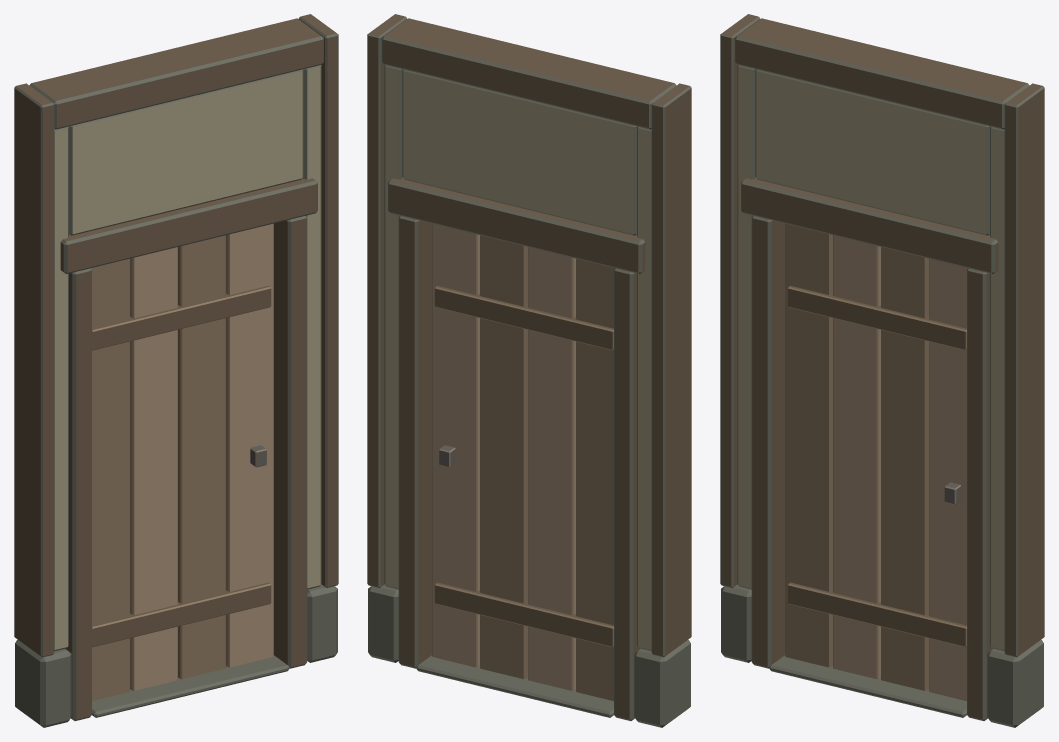
The model's file is door_wood.glb.
3 views of the same model, side by side, from view 1: azimuth 30°, elevation 25°; view 2: azimuth 150°, elevation 25°; view 3: azimuth 330°, elevation 25° (orthographic).
Visible parts, largest first — view 1: Door_Wood_Frame, Door_Wood_L; view 2: Door_Wood_Frame, Door_Wood_L; view 3: Door_Wood_Frame, Door_Wood_L.
Part boxes in pixels (x1,y1,x2,y2): Door_Wood_Frame: (14, 14, 338, 727); Door_Wood_L: (91, 223, 273, 700); Door_Wood_Frame: (367, 14, 691, 727); Door_Wood_L: (432, 223, 614, 700); Door_Wood_Frame: (720, 14, 1044, 727); Door_Wood_L: (785, 223, 967, 700).
Size of the model in its own units: 1.52 by 3.05 by 0.29.
